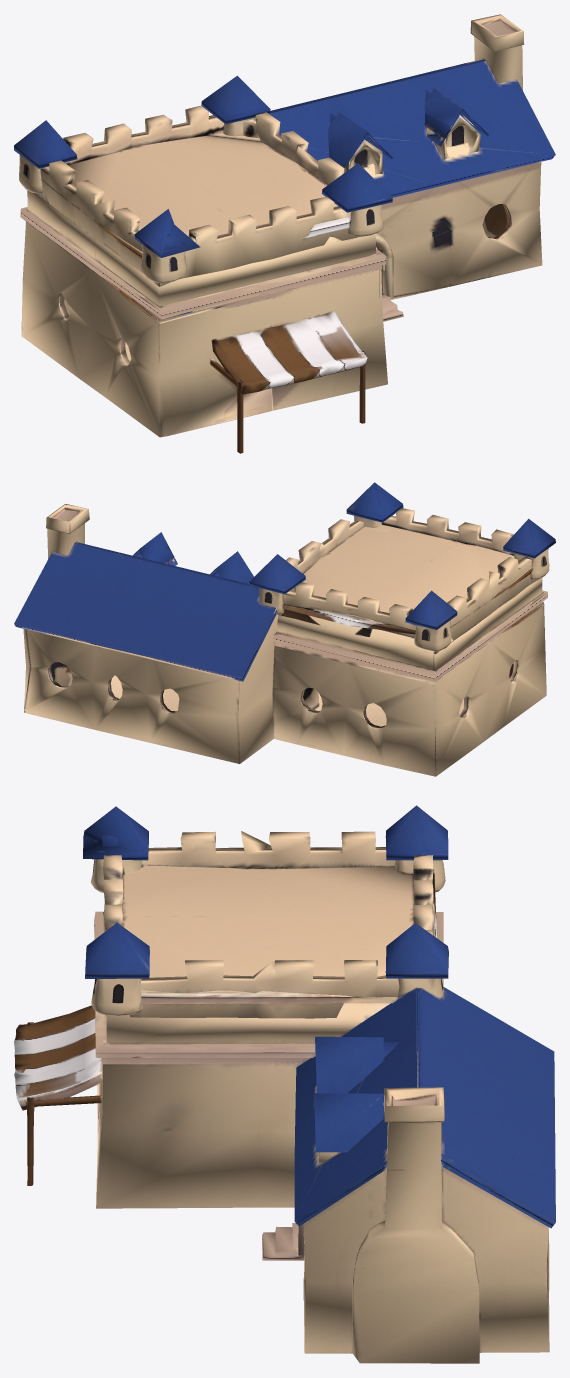
File: meshy-c2-e1.glb
The picture shows the model from 3 angles, top to bottom: view 1: azimuth 30°, elevation 25°; view 2: azimuth 150°, elevation 25°; view 3: azimuth 270°, elevation 25°; orthographic projection. The views are drawn at different scales.
Size of the model in its own units: 1 by 0.4498 by 0.7815.
1 material, 1 textured.
